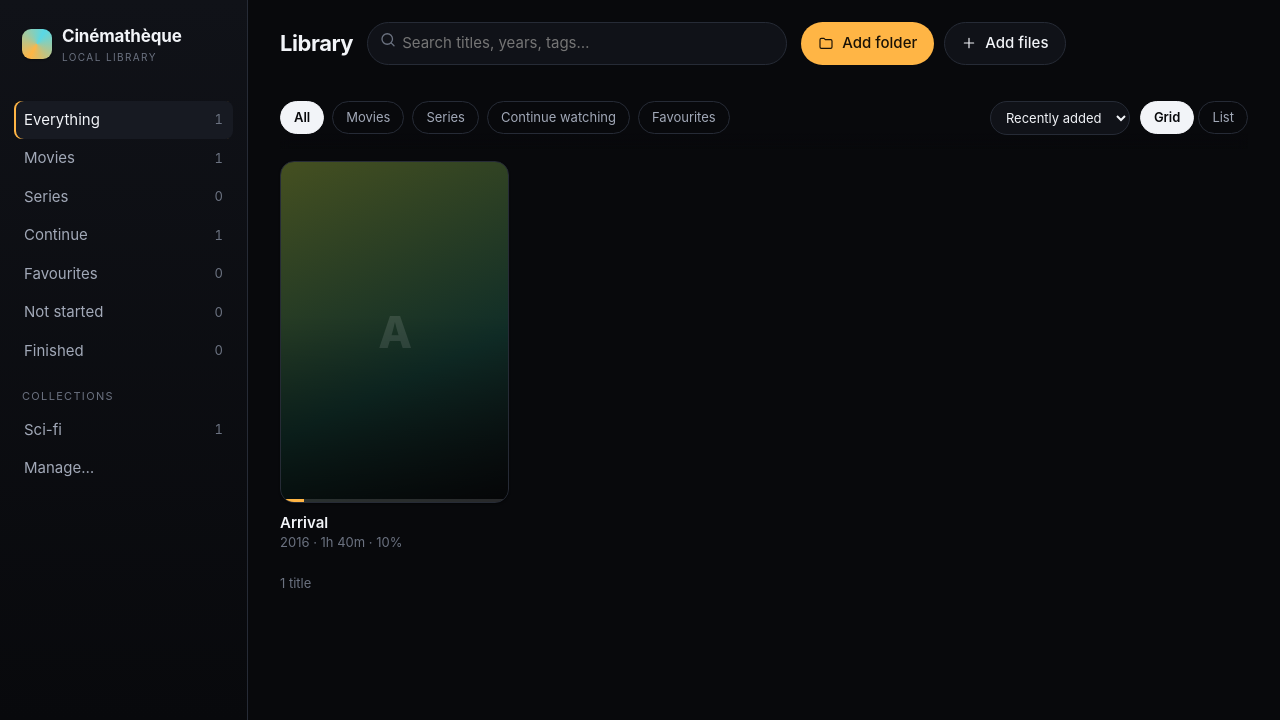
Test: app shell › opens the detail sheet and shows resume state
The image size is (1280, 720).
Click the button named "open arrival" at (394, 332), box x1=280 y1=160 x2=508 y2=503
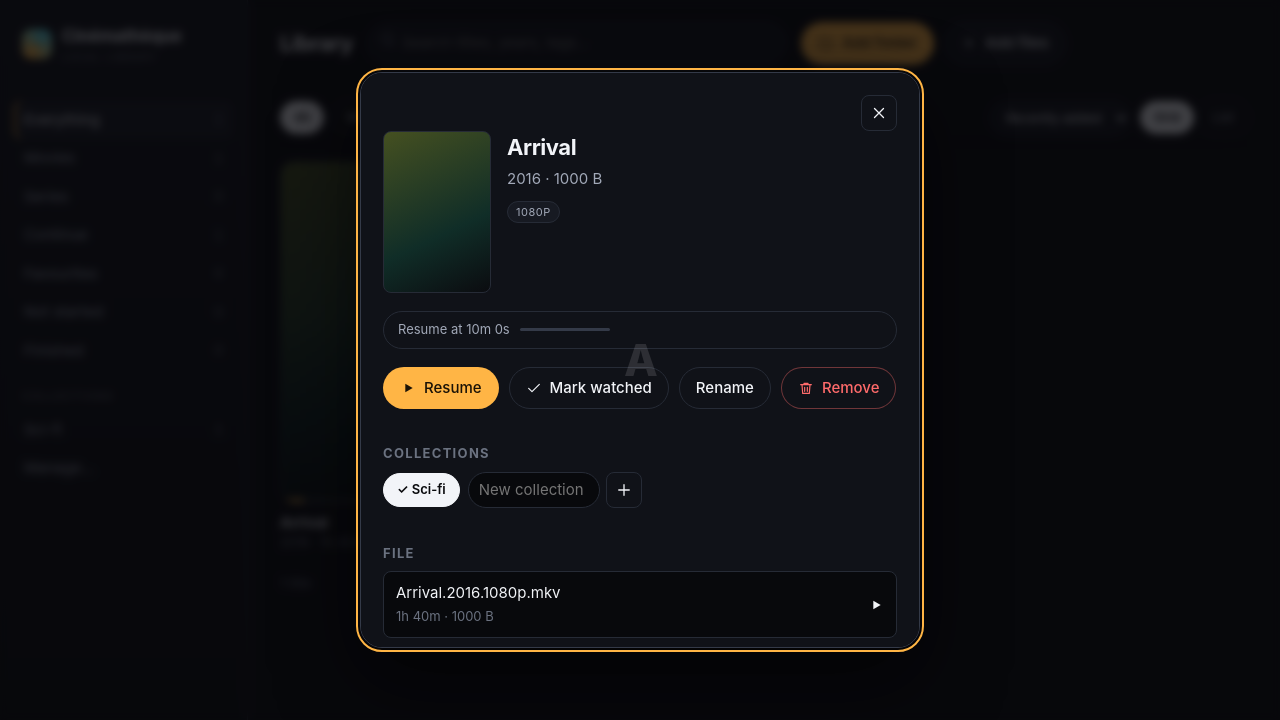
Expected: the dialog is shown, x1=360 y1=72 x2=920 y2=648
Expected: the text "Resume at 10m 0s" is shown, x1=398 y1=320 x2=510 y2=340
Expected: the button "Resume" is shown, x1=383 y1=366 x2=499 y2=409
